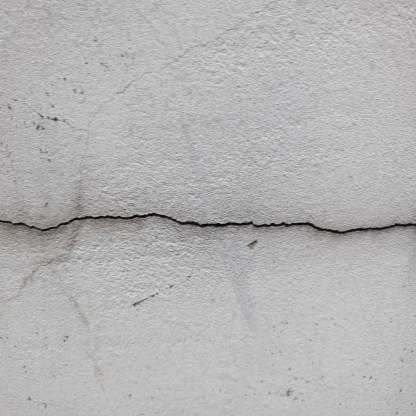crack: (0, 213, 416, 234)
